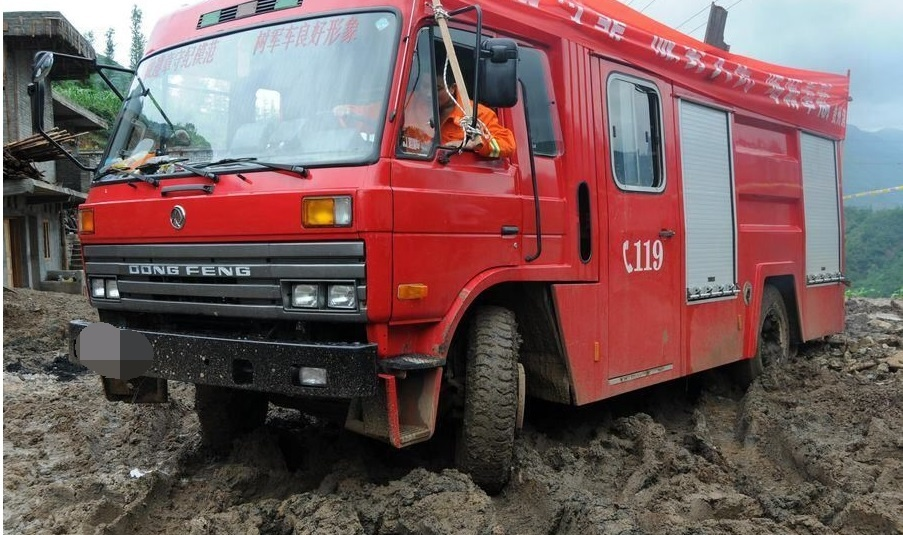fire engine: (72, 13, 859, 459)
